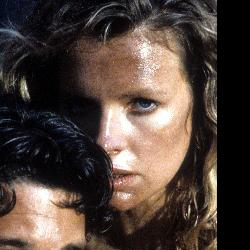face: (26, 8, 225, 215)
